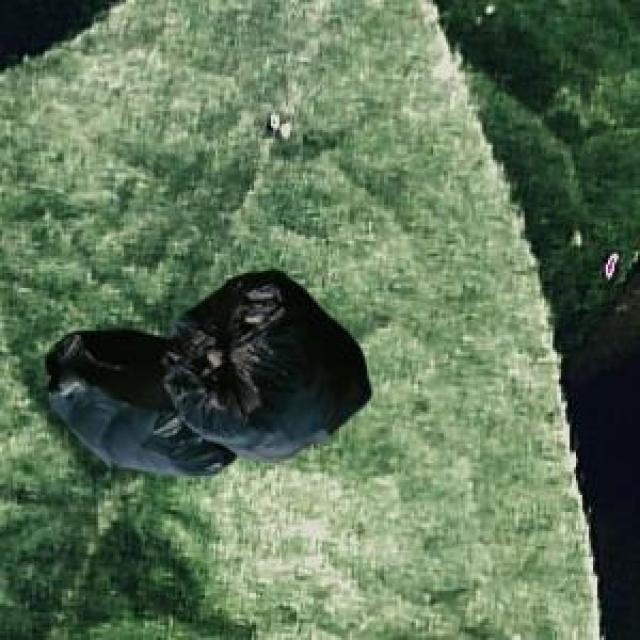miscellaneous trash: (41, 267, 367, 472)
